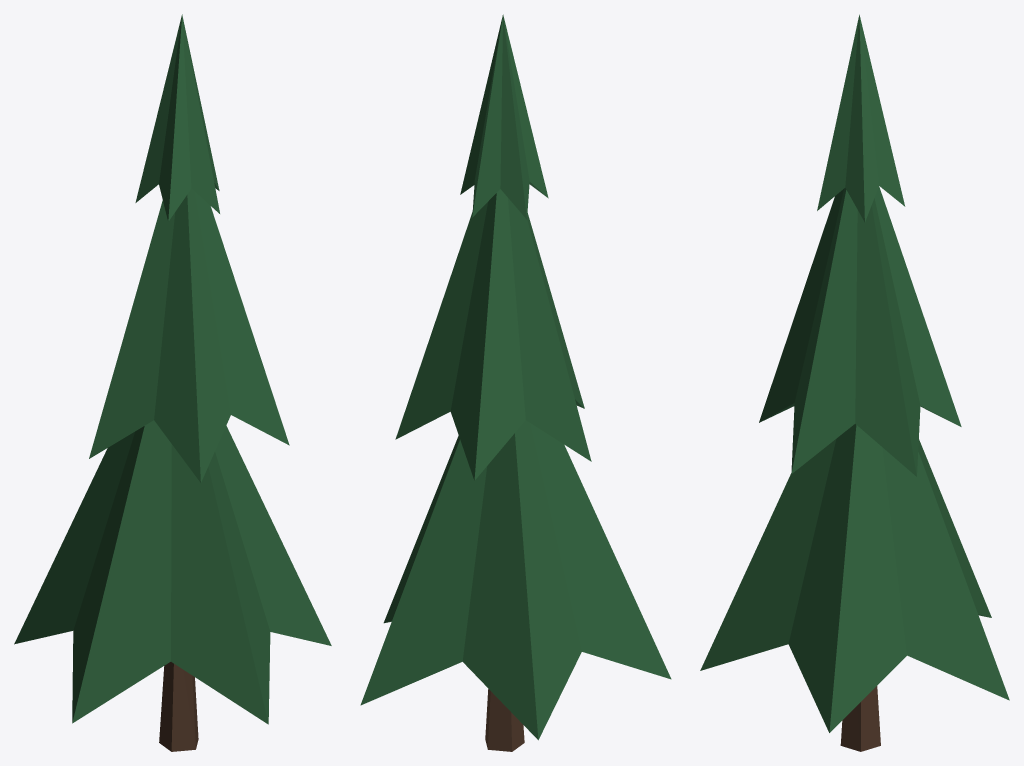
The model's file is conifer_b_lod1.glb.
3 views of the same model, side by side, from view 1: azimuth 30°, elevation 25°; view 2: azimuth 150°, elevation 25°; view 3: azimuth 270°, elevation 25° (orthographic).
Parts seen in each view (by area): view 1: conifer; view 2: conifer; view 3: conifer.
Part boxes in pixels (box(x1,y1,x2,y2)): conifer: box(14, 14, 331, 751); conifer: box(360, 14, 671, 751); conifer: box(700, 14, 1009, 751).
Size of the model in its own units: 5.07 by 12.91 by 4.97.
